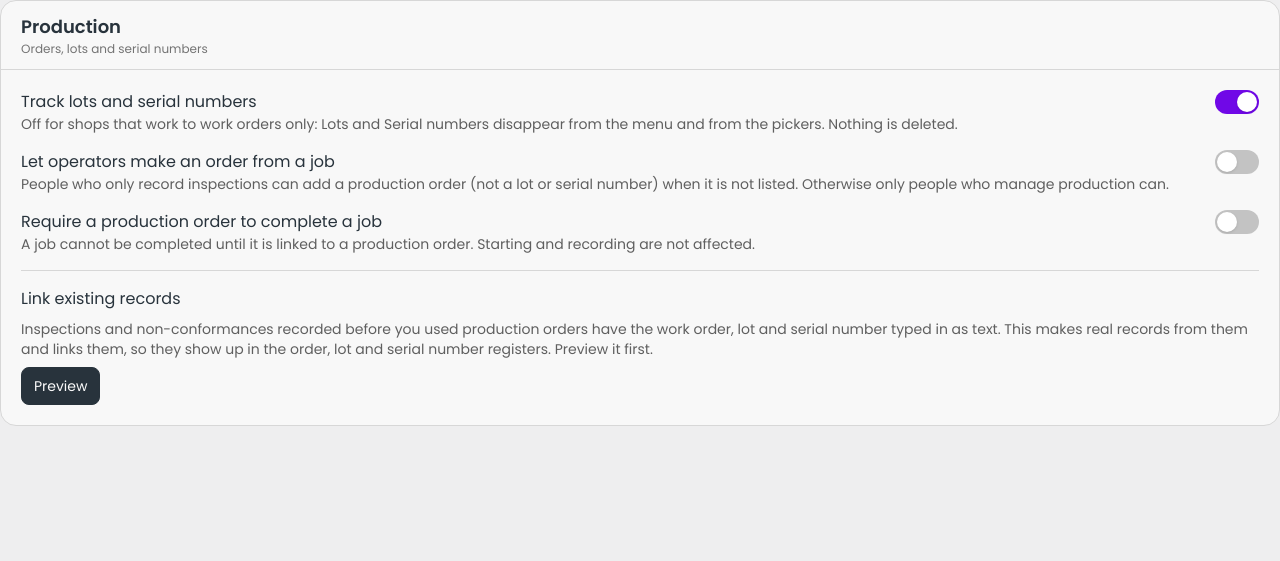
Test case: production settings › will not offer to link when there is nothing to link
Click the button "Preview": (61, 386) [21,367,100,405]
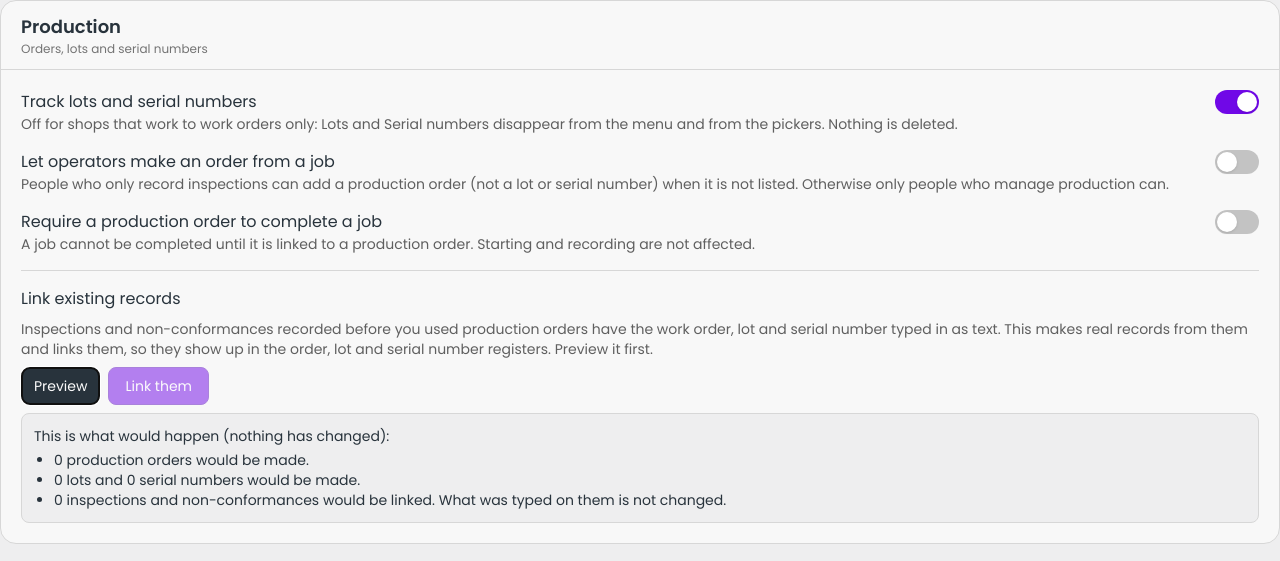
Check: the element named "Backfill report" is shown, box [21,413,1259,523]
Check: the button "Link them" is disabled, box [108,367,209,405]
